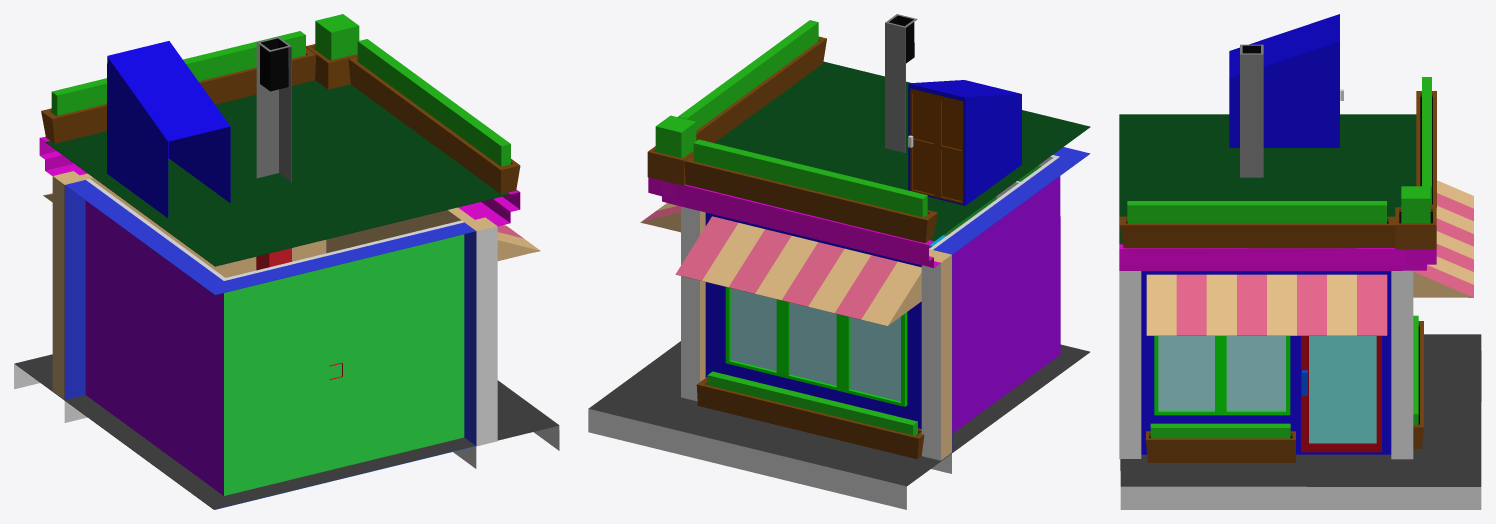
Rendered from Build.fbx.
The picture shows the model from 3 angles, left to right: view 1: azimuth 30°, elevation 25°; view 2: azimuth 150°, elevation 25°; view 3: azimuth 270°, elevation 25°; orthographic projection. The views are drawn at different scales.
Visible parts, largest first — view 1: RoomWalls, Face, RoofDoor, OutDoorFloor, RoofTube, FlowerRectangle1, Flowers1, FlowerRectangle2, Flowers2, Flowers3, FlowerBox, RoomFloor; view 2: Face, RoomWalls, OutDoorFloor, RoofDoor, FlowerRectangle2, Flowers2, FlowerRectangle2.001, Flowers1, Flowers5, FlowerRectangle1, RoofTube, Flowers3 (+1 smaller); view 3: Face, OutDoorFloor, RoofDoor, FlowerRectangle1, Flowers1, FlowerRectangle1.001, RoofTube, Flowers4, FlowerBox, FlowerRectangle2, Flowers3, Flowers2 (+2 smaller).
Boxes of the visible parts, box(x1,y1,x2,y2) form: RoomWalls: box(64, 179, 476, 495); Face: box(39, 80, 540, 446); RoofDoor: box(107, 41, 230, 217); OutDoorFloor: box(14, 354, 559, 509); RoofTube: box(256, 37, 291, 182); FlowerRectangle1: box(348, 56, 520, 194); Flowers1: box(357, 39, 510, 166); FlowerRectangle2: box(41, 47, 316, 143); Flowers2: box(51, 31, 305, 115); Flowers3: box(315, 14, 359, 60); FlowerBox: box(306, 44, 357, 89); RoomFloor: box(64, 401, 476, 509); Face: box(640, 61, 1090, 460); RoomWalls: box(929, 147, 1090, 452); OutDoorFloor: box(588, 341, 1089, 509); RoofDoor: box(908, 80, 1021, 205); FlowerRectangle2: box(684, 154, 937, 242); Flowers2: box(693, 139, 927, 217); FlowerRectangle2.001: box(696, 377, 924, 458); Flowers1: box(678, 20, 818, 130); Flowers5: box(707, 371, 917, 435); FlowerRectangle1: box(696, 36, 826, 142); RoofTube: box(885, 14, 917, 152); Flowers3: box(655, 115, 696, 158); Face: box(1119, 114, 1473, 459); OutDoorFloor: box(1120, 334, 1481, 509); RoofDoor: box(1229, 14, 1343, 147); FlowerRectangle1: box(1119, 216, 1395, 248); Flowers1: box(1127, 201, 1386, 223); FlowerRectangle1.001: box(1146, 431, 1295, 462); RoofTube: box(1240, 44, 1263, 177); Flowers4: box(1150, 423, 1290, 438); FlowerBox: box(1395, 207, 1436, 249); FlowerRectangle2: box(1416, 91, 1436, 207); Flowers3: box(1401, 186, 1430, 223); Flowers2: box(1422, 77, 1431, 204).
Size of the model in its own units: 801 by 898 by 804.
